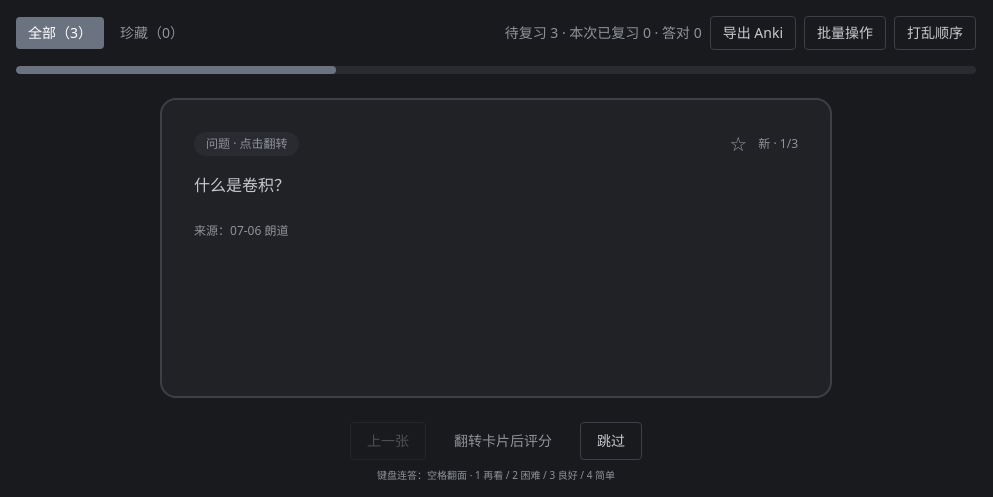
Test: FlashcardReviewView — navigation and favorites › shuffles and restarts the deck from the first card
Expected: the text "什么是卷积？" is shown, [194,174,290,196]
Click the button "跳过": (611, 441) [580,422,642,460]
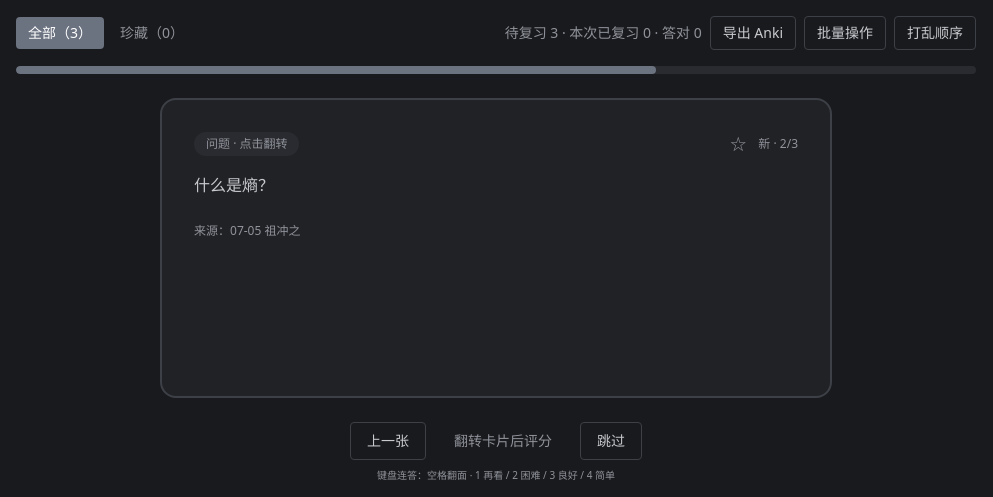
Now the text "什么是熵？" is shown, box [194,174,274,196]
Click the button "打乱顺序": (935, 33) [894,16,976,50]
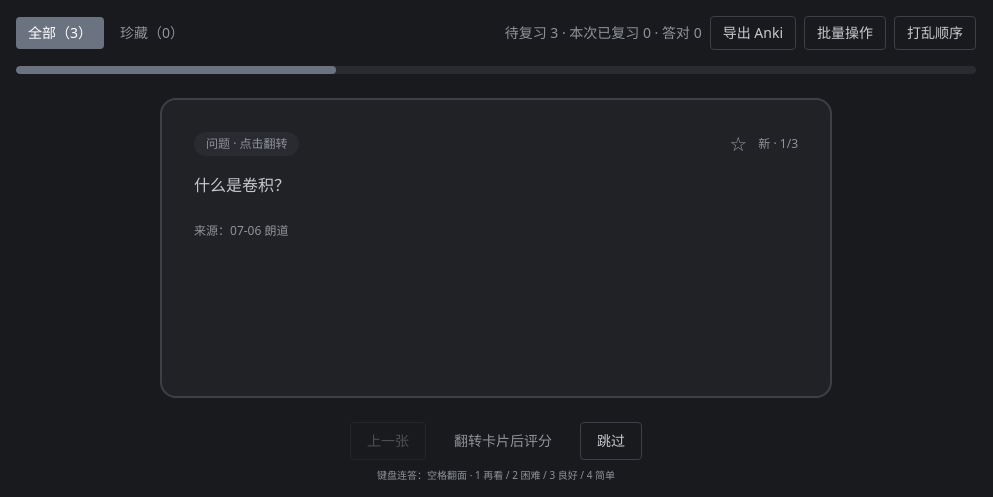
Now the text "新 · 1/3" is shown, box [758,136,798,152]
